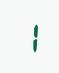one: (19, 20, 38, 52)
